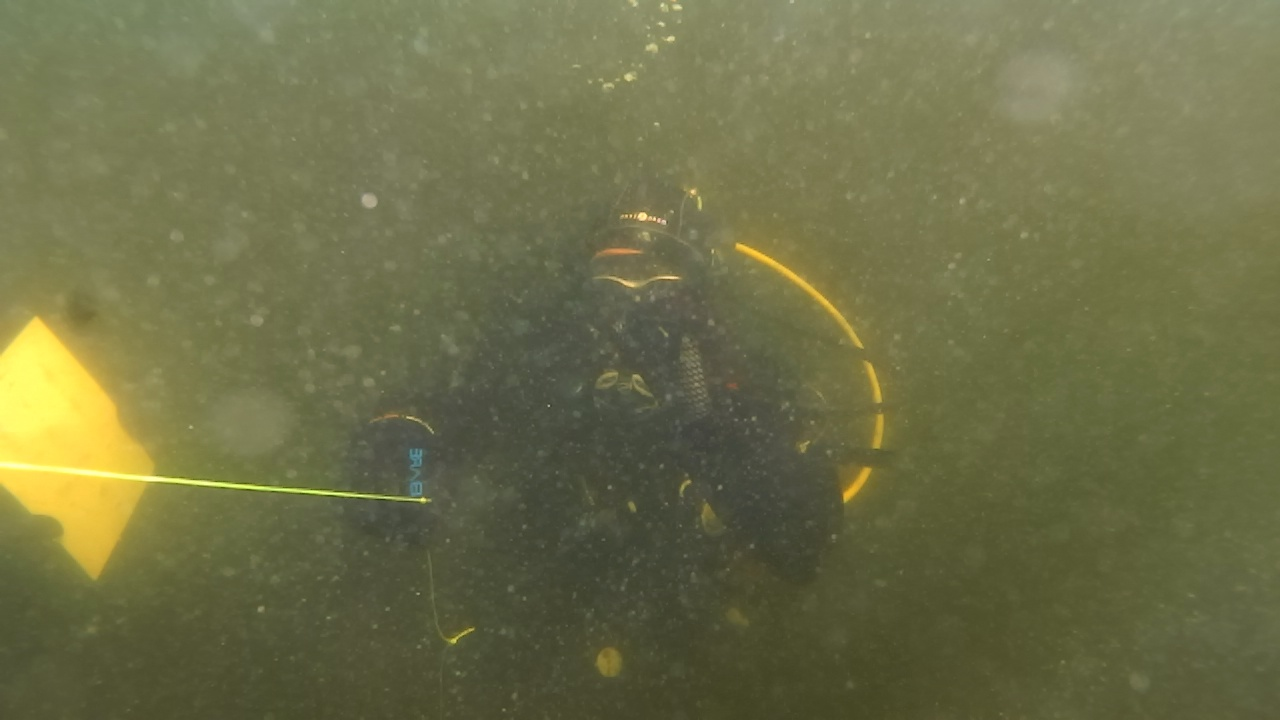Diver: (340, 194, 868, 714)
Hand: (344, 396, 456, 568)
Head: (556, 200, 730, 368)
